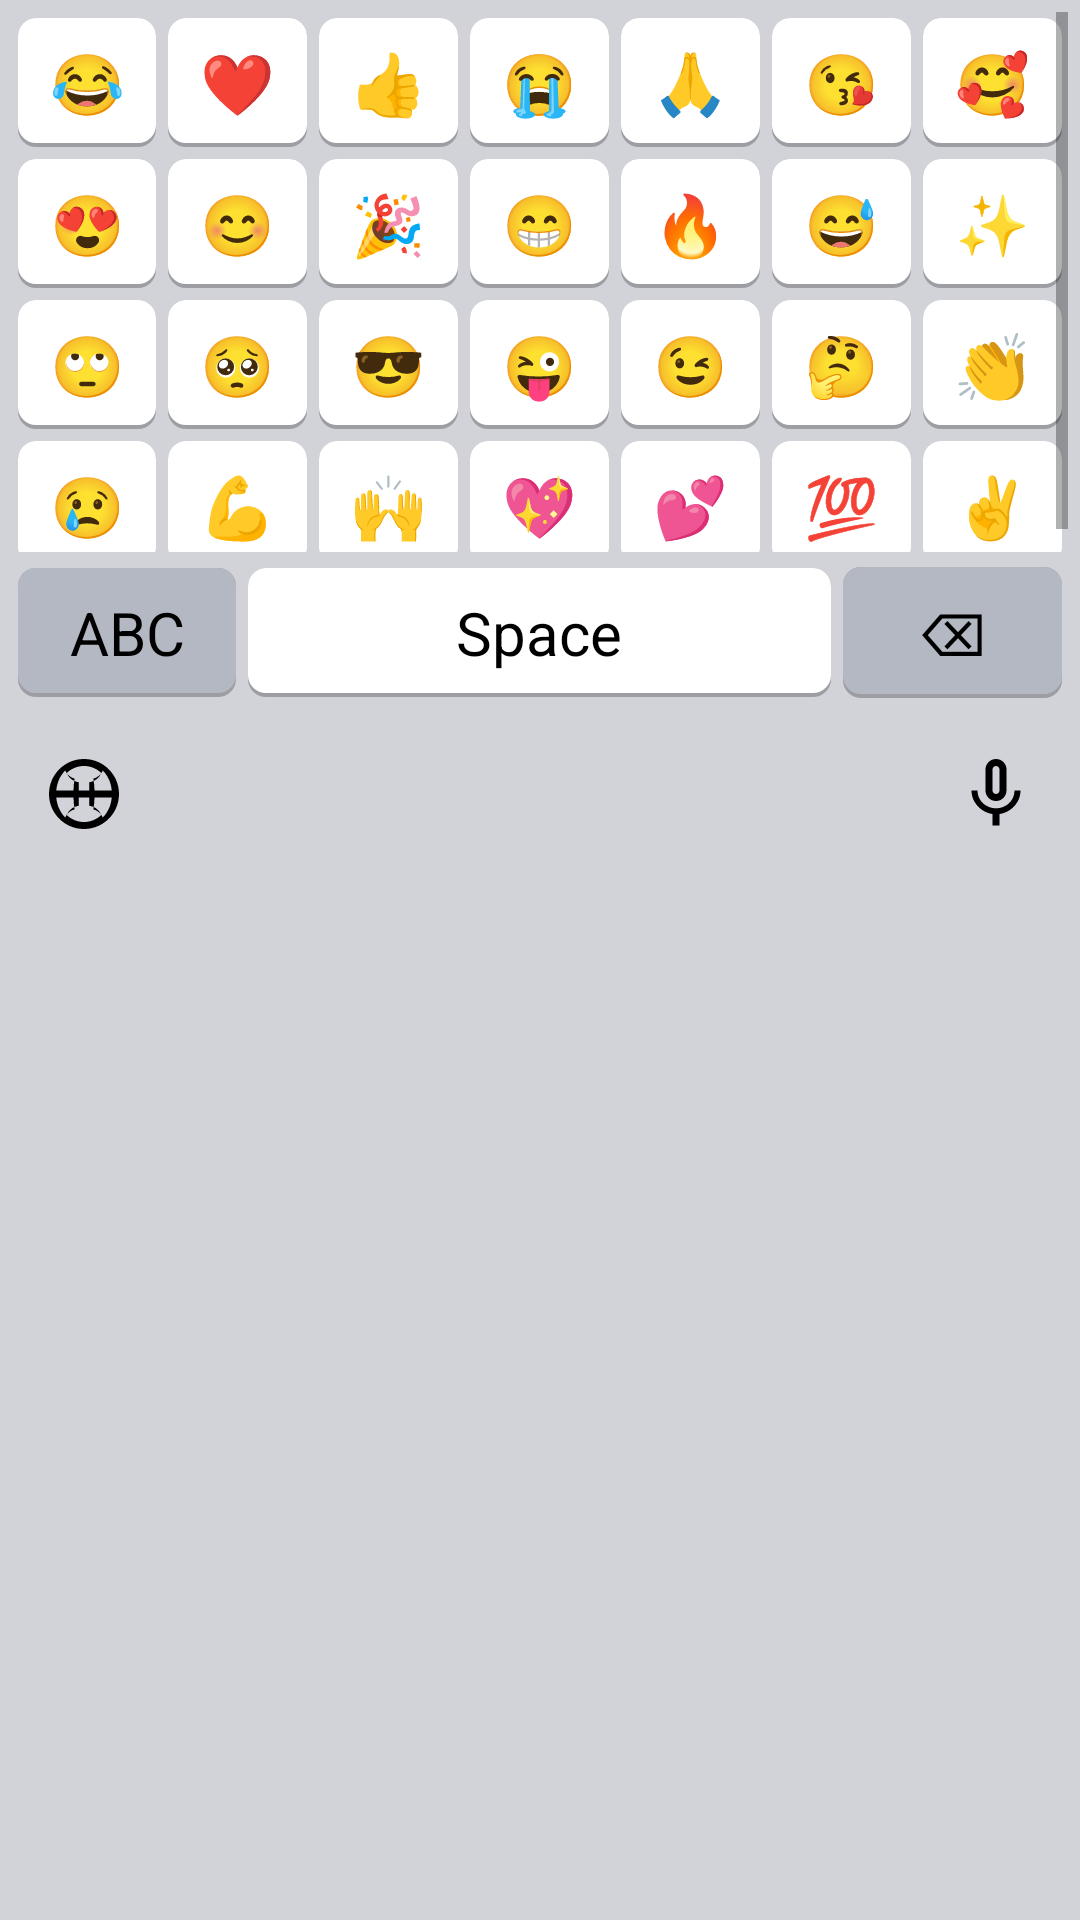

Screen size 1080 x 1920. Icon name, then its box in pixels as {"x1": x1, "y1": y1, "x2": x2, "y2": y2}:
globe: {"x1": 49, "y1": 759, "x2": 119, "y2": 829}
mic: {"x1": 971, "y1": 759, "x2": 1021, "y2": 826}
